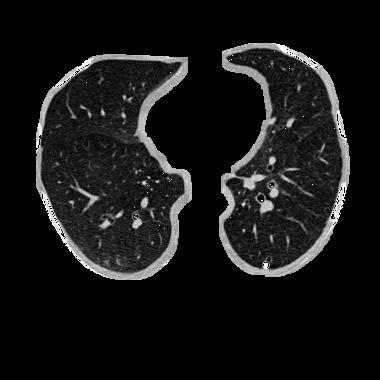PN: (262, 261, 270, 269)
